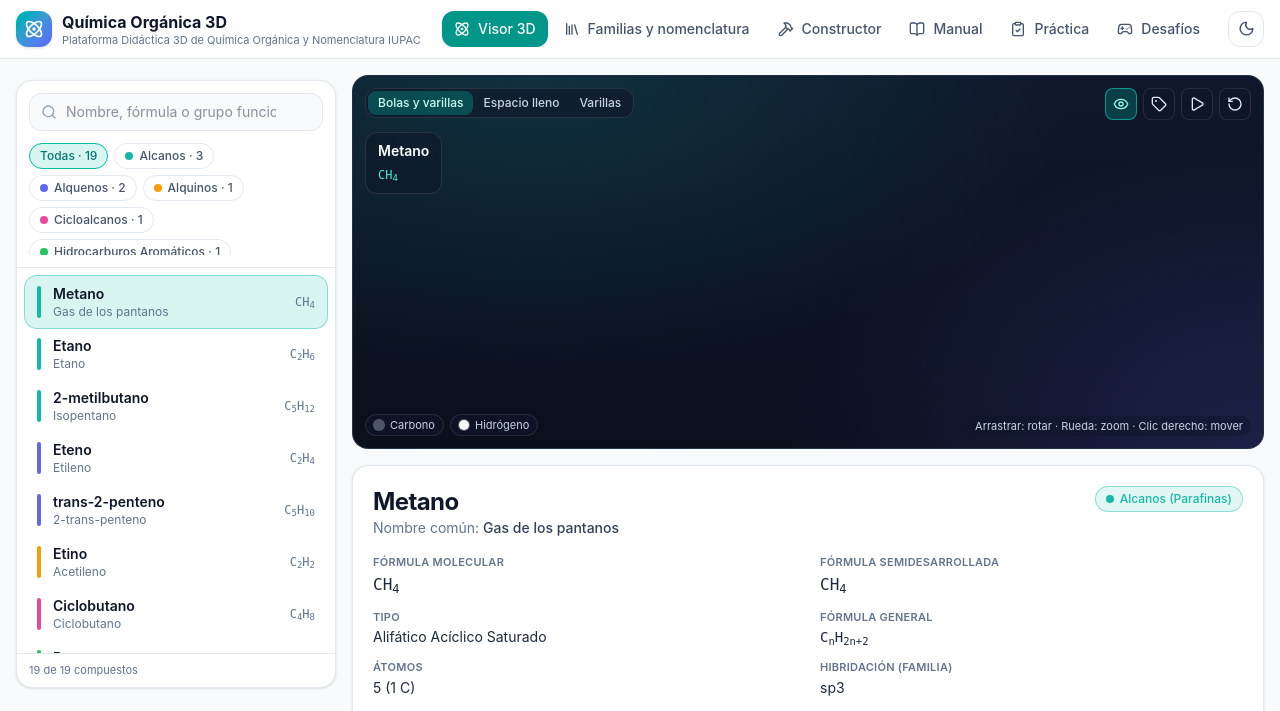
Test case: Módulo B · Familias y nomenclatura › lista las 14 familias y muestra datos de la seleccionada
The image size is (1280, 711).
Click the button "Familias y nomenclatura" at (657, 29), box [552,11,762,47]
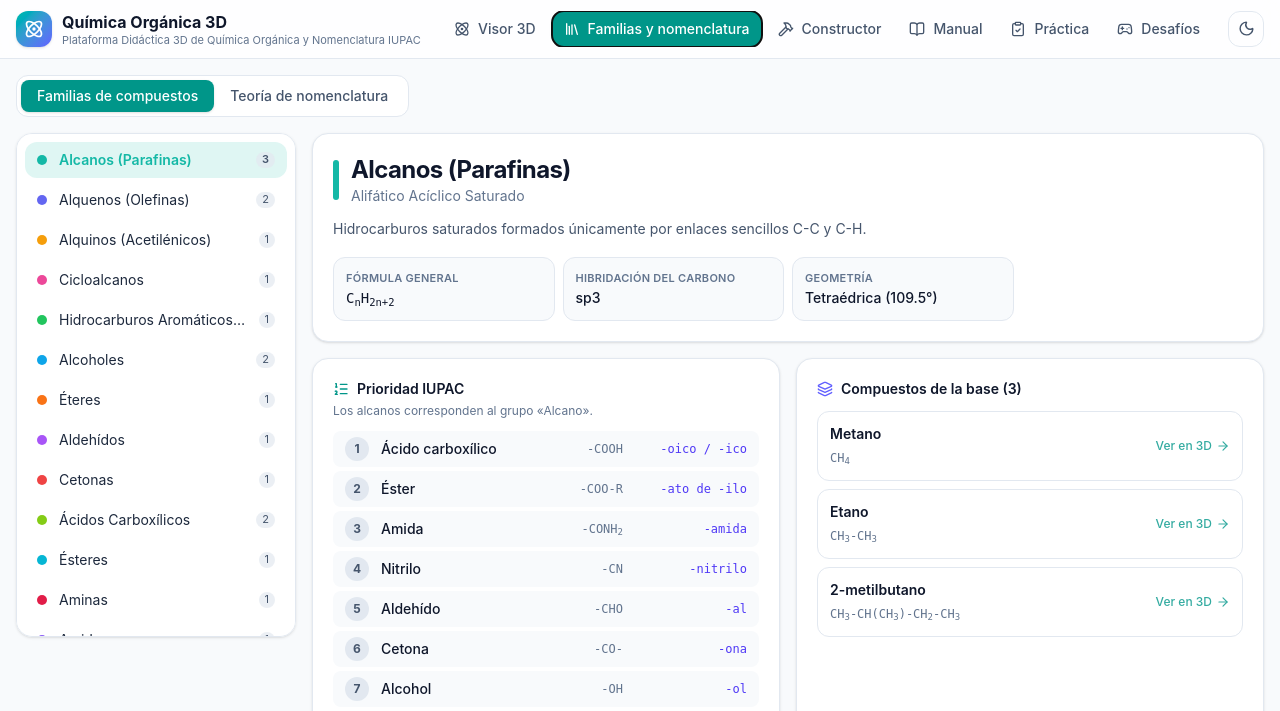
Click the button "Alquenos (Olefinas) 2" at (156, 200), box [25,182,287,218]
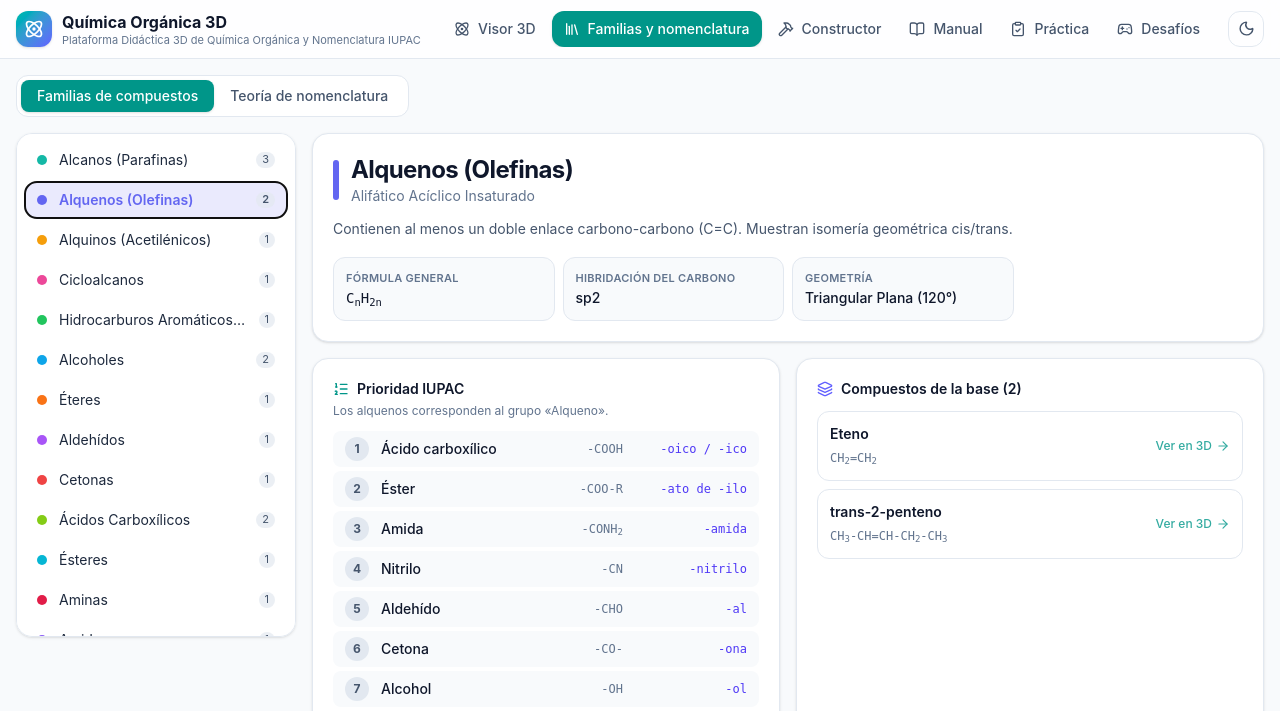
Check: the heading "Alquenos (Olefinas)" is shown, box [351,154,573,186]
Check: the text "Triangular Plana (120°)" is shown, box [805,289,957,306]
Check: the heading "Compuestos de la base (2)" is shown, box [817,380,1022,397]
